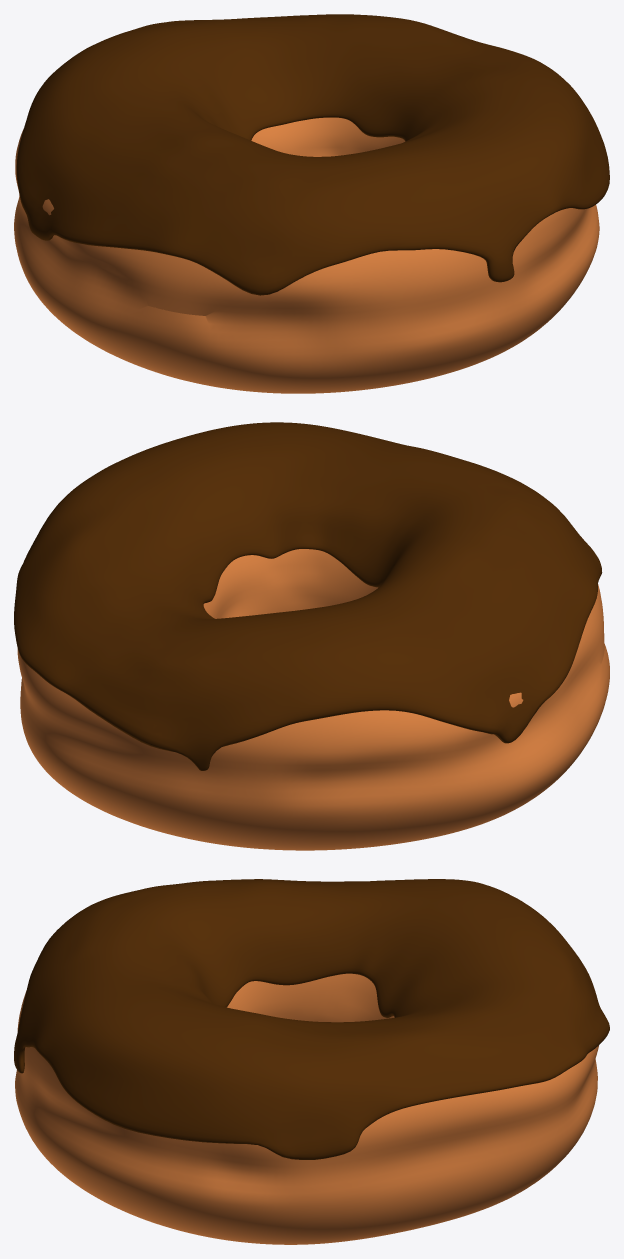
The model's file is donut.glb.
The picture shows the model from 3 angles, top to bottom: view 1: azimuth 30°, elevation 25°; view 2: azimuth 150°, elevation 25°; view 3: azimuth 270°, elevation 25°; orthographic projection. The views are drawn at different scales.
Visible parts, largest first — view 1: Icing, Donut; view 2: Icing, Donut; view 3: Icing, Donut.
Part boxes in pixels (x1=…): Icing: x1=16, y1=14, x2=609, y2=295; Donut: x1=14, y1=117, x2=599, y2=393; Icing: x1=14, y1=422, x2=602, y2=770; Donut: x1=17, y1=549, x2=609, y2=850; Icing: x1=14, y1=879, x2=609, y2=1159; Donut: x1=15, y1=973, x2=598, y2=1244.
Size of the model in its own units: 0.148 by 0.061 by 0.152.
